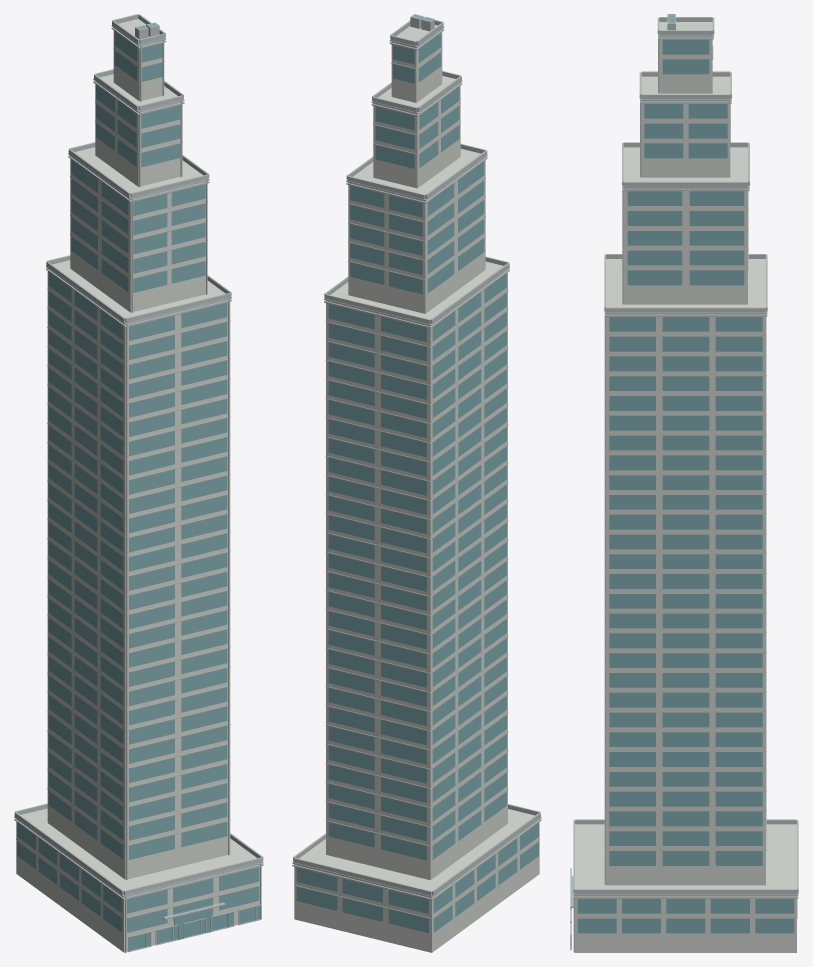
Rendered from commercial_3x4_tower_crown.glb.
3 renders of one model, left to right at view 1: azimuth 30°, elevation 25°; view 2: azimuth 150°, elevation 25°; view 3: azimuth 270°, elevation 25°, orthographic. The views are drawn at different scales.
Parts seen in each view (by area): view 1: commercial_3x4_tower_crown_0; view 2: commercial_3x4_tower_crown_0; view 3: commercial_3x4_tower_crown_0.
Boxes of the visible parts, left/top/right/bottom form: commercial_3x4_tower_crown_0: left=14, top=14, right=263, bottom=952; commercial_3x4_tower_crown_0: left=292, top=14, right=541, bottom=952; commercial_3x4_tower_crown_0: left=570, top=14, right=798, bottom=952.
Size of the model in its own units: 23 by 136 by 31.4.
